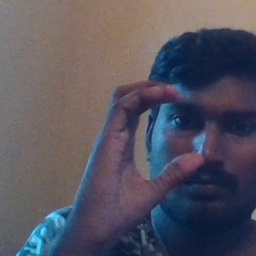C: (83, 76, 207, 195)
